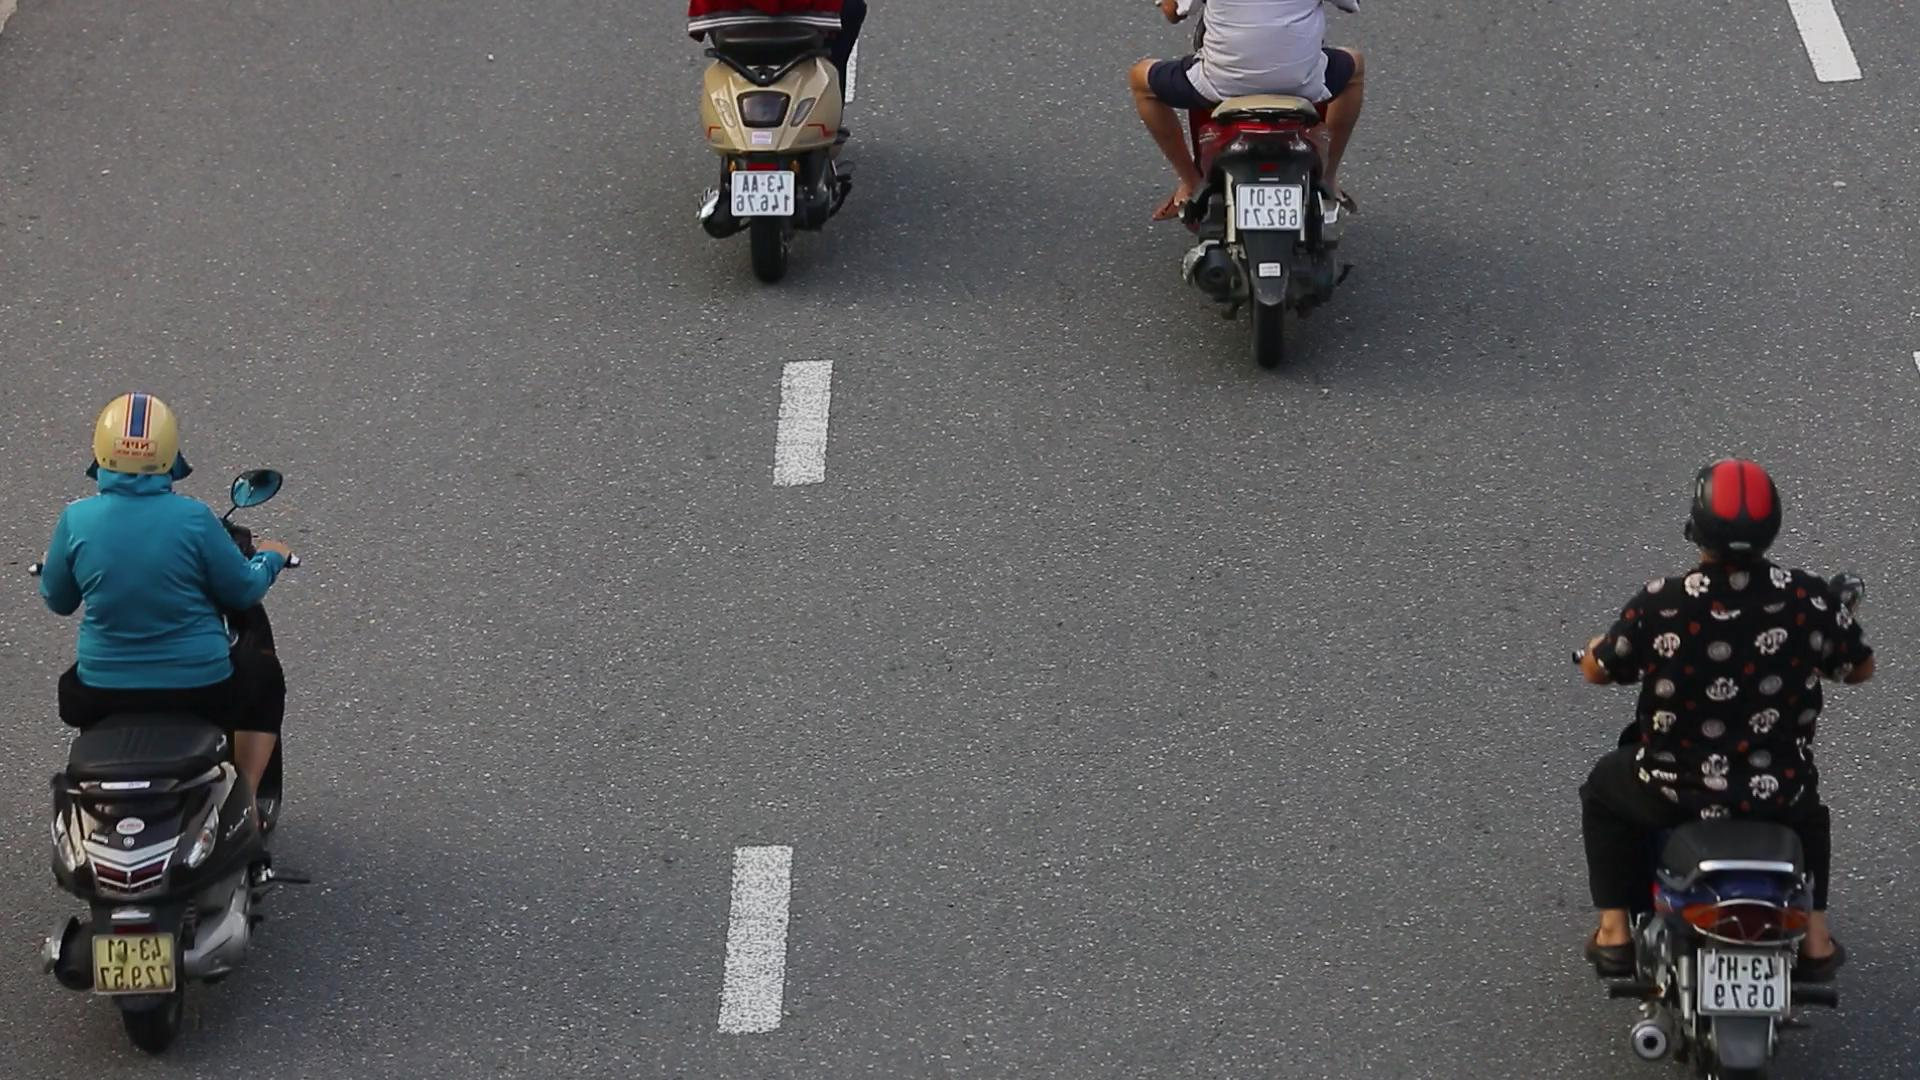motobike: (15, 382, 324, 1065), (1548, 434, 1874, 1079)
